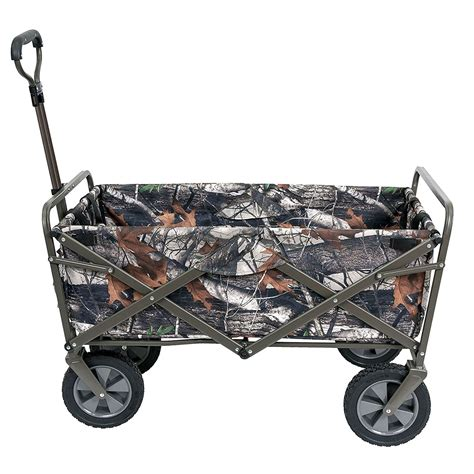Carts: (11, 26, 456, 452)
